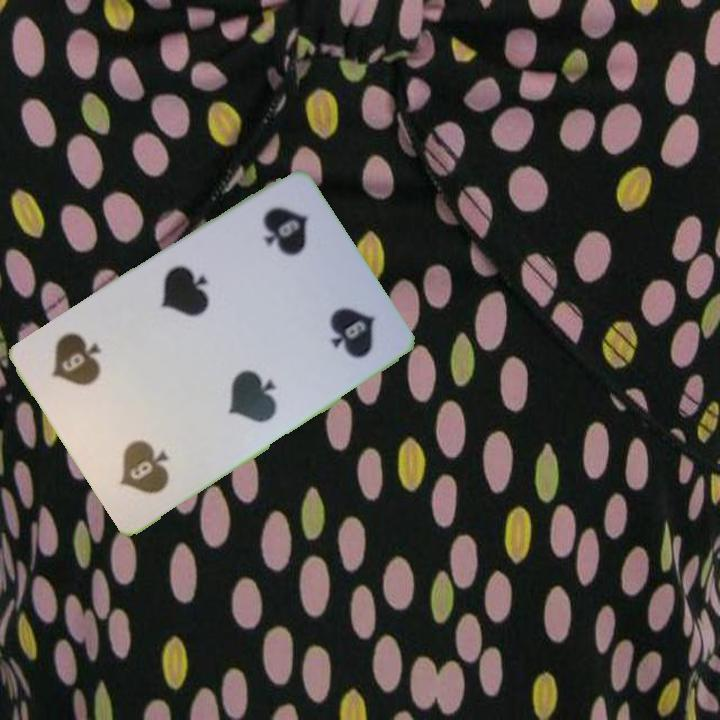s_6.png: (77, 389, 201, 518), (224, 182, 348, 310)
